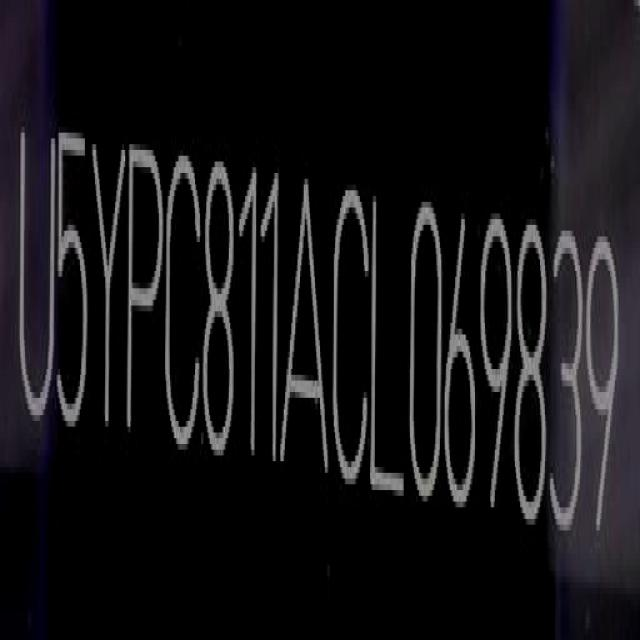0: (407, 177, 444, 505)
1: (238, 156, 260, 468), (261, 161, 281, 468)
3: (549, 218, 584, 540)
5: (54, 113, 90, 456)
6: (443, 202, 478, 510)
8: (199, 161, 236, 465), (513, 212, 547, 522)
9: (585, 226, 621, 545), (477, 210, 512, 520)
A: (278, 177, 330, 479)
C: (162, 150, 202, 468), (330, 182, 371, 491)
L: (368, 161, 408, 511)
P: (126, 131, 165, 473)
U: (19, 106, 57, 424)
Y: (88, 129, 126, 453)
